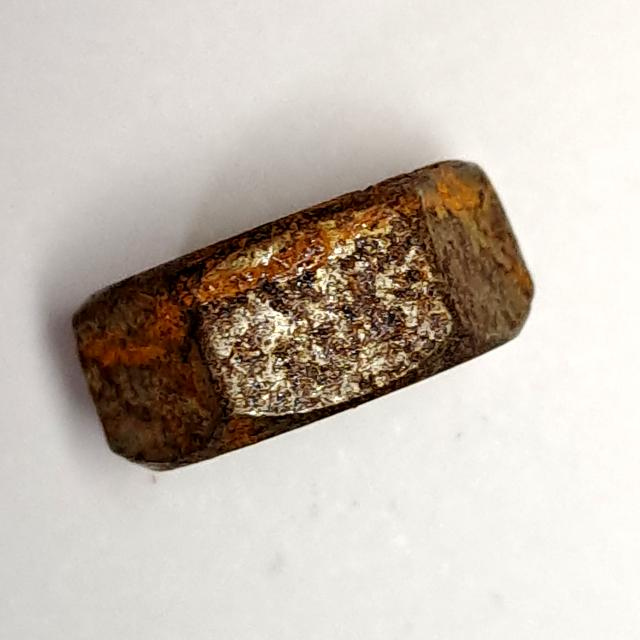Side_Rust: (53, 147, 547, 483)
